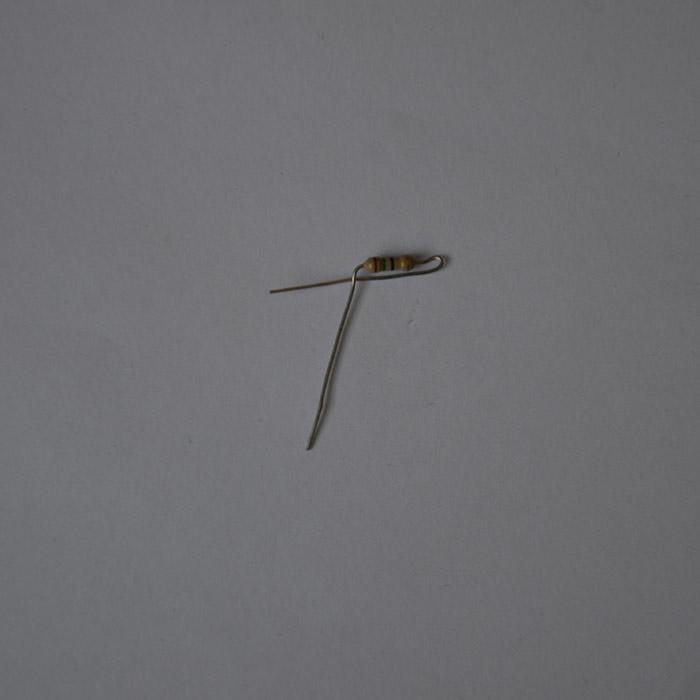resistor: (365, 254, 413, 273)
